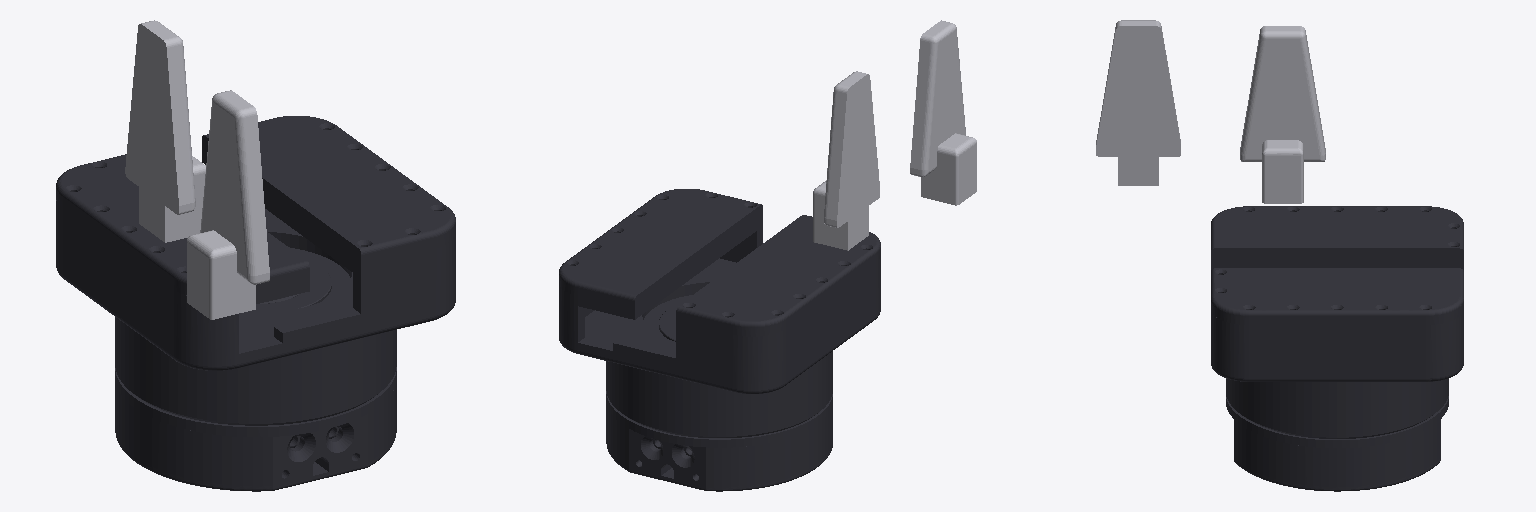
URDF robot description (aidin_gripper):
<?xml version="1.0"?>
<!--
  aidin_gripper_simple.demo.urdf
  ─────────────────────────────────────────────────────────────
  *** 데모/시각 확인 전용 — 실측값 아님 ***
  aidin_gripper_simple.urdf 의 CAPS 플레이스홀더에 임시 숫자를 채운 사본.
  view_urdf.py 로 열림/닫힘 애니메이션을 눈으로 보기 위한 목적일 뿐이며,
  실제 제어/충돌검사/질량계산에는 절대 쓰지 마세요.

  질량/관성/충돌박스/TCP 값은 이미 검증을 통과한 aidin_gripper.urdf(fixed
  버전)의 실측값을 그대로 재사용했습니다 — 같은 실물 그리퍼이므로 그 값은
  참값입니다. 유일하게 새로 지어낸 값은 아래 두 가지뿐입니다.

    FINGER_Y0(닫힘 위치, 0.010m 가정) + STROKE_HALF(0.030m 가정)
    = 완전 개방 시 0.010+0.030=0.040m
    → aidin_gripper.urdf 의 핑거 개방 Y오프셋(0.0400m)과 정확히 일치하도록
      역산한 숫자입니다. 실측 스트로크를 알게 되면 이 두 값만 바꾸면 됩니다.

  MAX_FORCE_N / MAX_SPEED_MPS 는 애니메이션에 영향 없는 관절 한계치라
  아무 값이나 넣었습니다(모터 스펙 아님).
-->
<robot name="aidin_gripper">

  <link name="gripper_base">
    <visual>
      <origin xyz="0 0 0" rpy="0 0 0"/>
      <geometry>
        <mesh filename="package://aidin_gripper_description/meshes/visual/gripper_base.stl"
              scale="0.001 0.001 0.001"/>
      </geometry>
      <material name="dark_gray">
        <color rgba="0.25 0.25 0.28 1.0"/>
      </material>
    </visual>

    <collision>
      <origin xyz="0 0 0.0400" rpy="0 0 0"/>
      <geometry>
        <box size="0.0700 0.0900 0.0800"/>
      </geometry>
    </collision>

    <inertial>
      <origin xyz="0 0 0.0380" rpy="0 0 0"/>
      <mass value="0.5500"/>
      <inertia ixx="4.20e-4" ixy="0.0"     ixz="0.0"
                             iyy="3.80e-4" iyz="0.0"
                                           izz="2.60e-4"/>
    </inertial>
  </link>

  <joint name="gripper_finger_1_joint" type="prismatic">
    <parent link="gripper_base"/>
    <child  link="gripper_finger_1"/>
    <!-- DEMO: 닫힘 위치 0.010m (실측값으로 교체 필요) -->
    <origin xyz="0 0.0100 0.0800" rpy="0 0 0"/>
    <axis xyz="0 1 0"/>
    <!-- DEMO: 편측 스트로크 0.030m → 완전개방 Y=0.040m (fixed 버전과 일치) -->
    <limit lower="0.0" upper="0.0300" effort="50.0" velocity="0.05"/>
    <dynamics damping="0.1" friction="0.0"/>
  </joint>

  <link name="gripper_finger_1">
    <visual>
      <origin xyz="0 0 0" rpy="0 0 0"/>
      <geometry>
        <mesh filename="package://aidin_gripper_description/meshes/visual/gripper_finger.stl"
              scale="0.001 0.001 0.001"/>
      </geometry>
      <material name="light_gray">
        <color rgba="0.75 0.75 0.78 1.0"/>
      </material>
    </visual>
    <collision>
      <origin xyz="0 0.0050 0.0250" rpy="0 0 0"/>
      <geometry>
        <box size="0.0250 0.0120 0.0500"/>
      </geometry>
    </collision>
    <inertial>
      <origin xyz="0 0.0040 0.0230" rpy="0 0 0"/>
      <mass value="0.0450"/>
      <inertia ixx="1.20e-5" ixy="0" ixz="0"
                             iyy="1.30e-5" iyz="0"
                                           izz="3.10e-6"/>
    </inertial>
  </link>

  <joint name="gripper_finger_2_joint" type="prismatic">
    <parent link="gripper_base"/>
    <child  link="gripper_finger_2"/>
    <origin xyz="0 -0.0100 0.0800" rpy="0 0 3.14159265"/>
    <axis xyz="0 1 0"/>
    <limit lower="0.0" upper="0.0300" effort="50.0" velocity="0.05"/>
    <mimic joint="gripper_finger_1_joint" multiplier="1.0" offset="0.0"/>
    <dynamics damping="0.1" friction="0.0"/>
  </joint>

  <link name="gripper_finger_2">
    <visual>
      <origin xyz="0 0 0" rpy="0 0 0"/>
      <geometry>
        <mesh filename="package://aidin_gripper_description/meshes/visual/gripper_finger.stl"
              scale="0.001 0.001 0.001"/>
      </geometry>
      <material name="light_gray"/>
    </visual>
    <collision>
      <origin xyz="0 0.0050 0.0250" rpy="0 0 0"/>
      <geometry>
        <box size="0.0250 0.0120 0.0500"/>
      </geometry>
    </collision>
    <inertial>
      <origin xyz="0 0.0040 0.0230" rpy="0 0 0"/>
      <mass value="0.0450"/>
      <inertia ixx="1.20e-5" ixy="0" ixz="0"
                             iyy="1.30e-5" iyz="0"
                                           izz="3.10e-6"/>
    </inertial>
  </link>

  <link name="gripper_tcp"/>
  <joint name="gripper_tcp_joint" type="fixed">
    <parent link="gripper_base"/>
    <child  link="gripper_tcp"/>
    <origin xyz="0 0 0.1350" rpy="0 0 0"/>
  </joint>

</robot>

--- Render facts (derived) ---
The picture shows the robot from 3 angles, left to right: view 1: azimuth 30°, elevation 25°; view 2: azimuth 150°, elevation 25°; view 3: azimuth 270°, elevation 25°; orthographic projection.
Model aidin_gripper with 4 links and 3 joints (2 prismatic, 1 fixed), rooted at gripper_base, posed every joint at zero.
Links seen in each view (by area): view 1: gripper_base, gripper_finger_2, gripper_finger_1; view 2: gripper_base, gripper_finger_2, gripper_finger_1; view 3: gripper_base, gripper_finger_1, gripper_finger_2.
Link boxes in pixels (left/top/right/bottom): gripper_base: left=56, top=116, right=455, bottom=491; gripper_finger_2: left=187, top=90, right=269, bottom=319; gripper_finger_1: left=125, top=20, right=205, bottom=242; gripper_base: left=559, top=189, right=880, bottom=491; gripper_finger_2: left=910, top=20, right=976, bottom=205; gripper_finger_1: left=813, top=71, right=879, bottom=250; gripper_base: left=1211, top=206, right=1463, bottom=491; gripper_finger_1: left=1240, top=26, right=1325, bottom=203; gripper_finger_2: left=1096, top=20, right=1180, bottom=185.
Bounding box of the posed robot: 0.1 × 0.125 × 0.14 m (x, y, z).
Meshes: 2 distinct files referenced, 3 mesh visuals loaded (2 binary STL).
